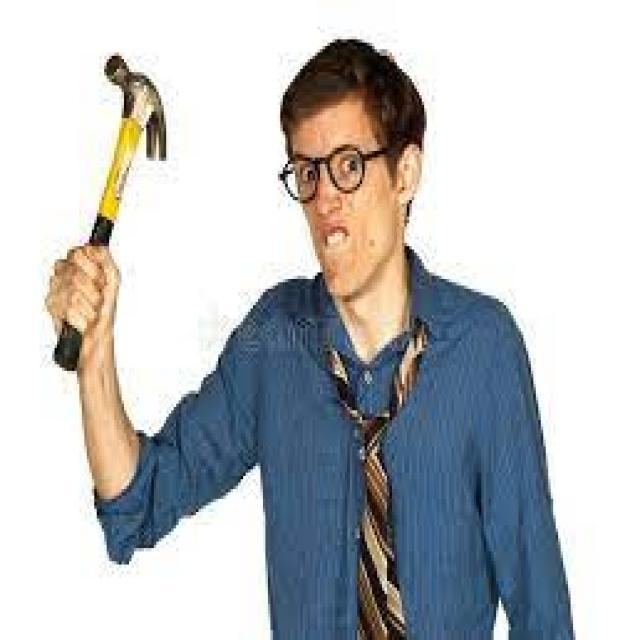hammer: (46, 47, 176, 375)
